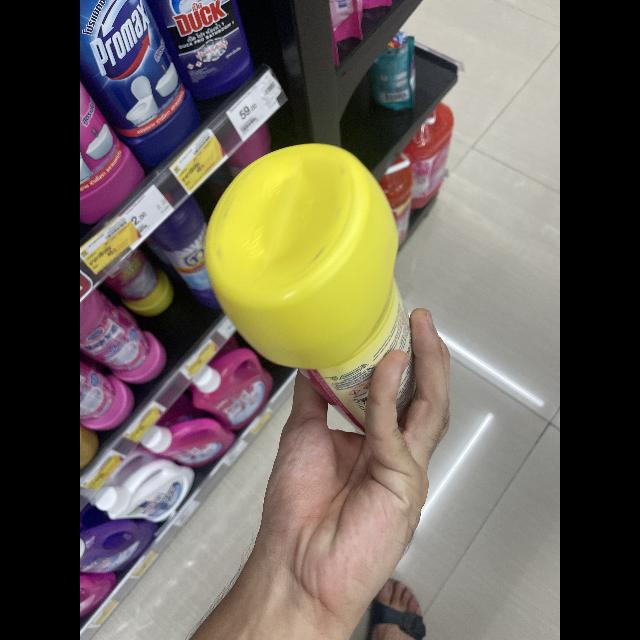chemical_plastic_bottle: (203, 136, 445, 454)
